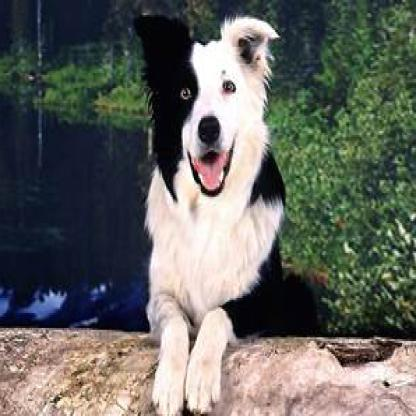dog: (130, 17, 285, 414)
